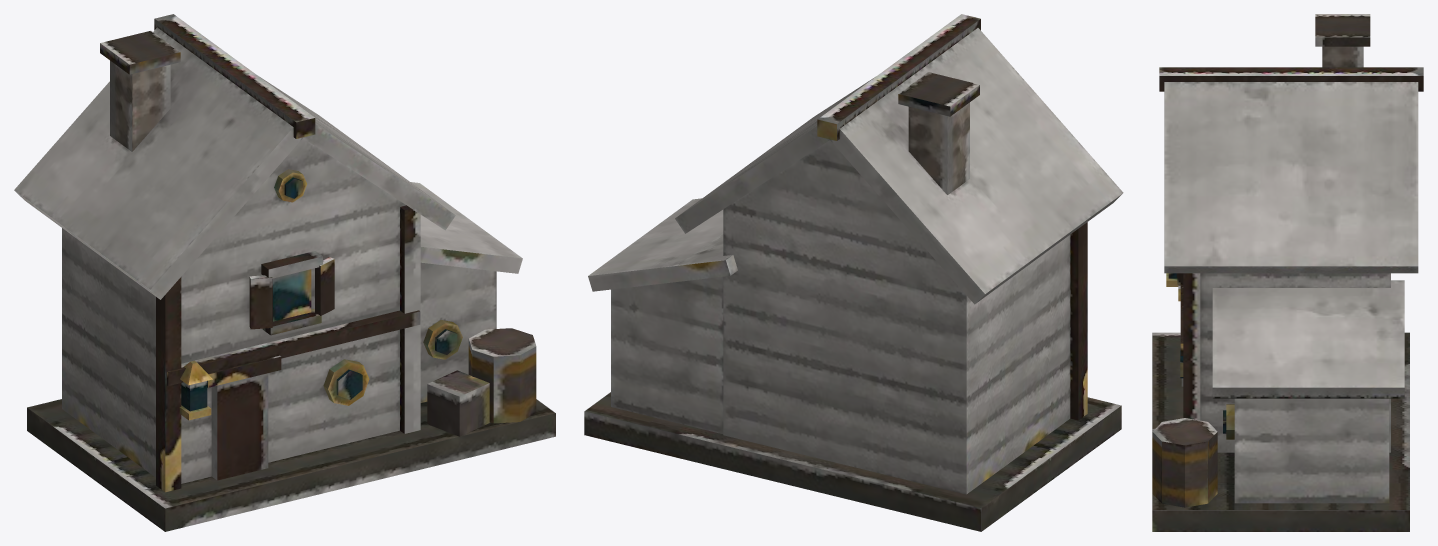
Rendered from pirate_plank_homestead.glb.
The picture shows the model from 3 angles, left to right: view 1: azimuth 30°, elevation 25°; view 2: azimuth 150°, elevation 25°; view 3: azimuth 270°, elevation 25°; orthographic projection. The views are drawn at different scales.
Parts seen in each view (by area): view 1: WoodBody, FixedDetails, BrassTrim; view 2: WoodBody, FixedDetails; view 3: WoodBody, FixedDetails, BrassTrim.
Boxes of the visible parts, left/top/right/bottom form: WoodBody: left=14, top=27, right=522, bottom=483; FixedDetails: left=27, top=14, right=555, bottom=531; BrassTrim: left=179, top=169, right=462, bottom=420; WoodBody: left=588, top=28, right=1123, bottom=494; FixedDetails: left=584, top=14, right=1121, bottom=531; WoodBody: left=1164, top=82, right=1418, bottom=503; FixedDetails: left=1152, top=14, right=1423, bottom=531; BrassTrim: left=1166, top=273, right=1234, bottom=439.
Size of the model in its own units: 0.2503 by 0.234 by 0.158.
3 materials, 3 textured.
